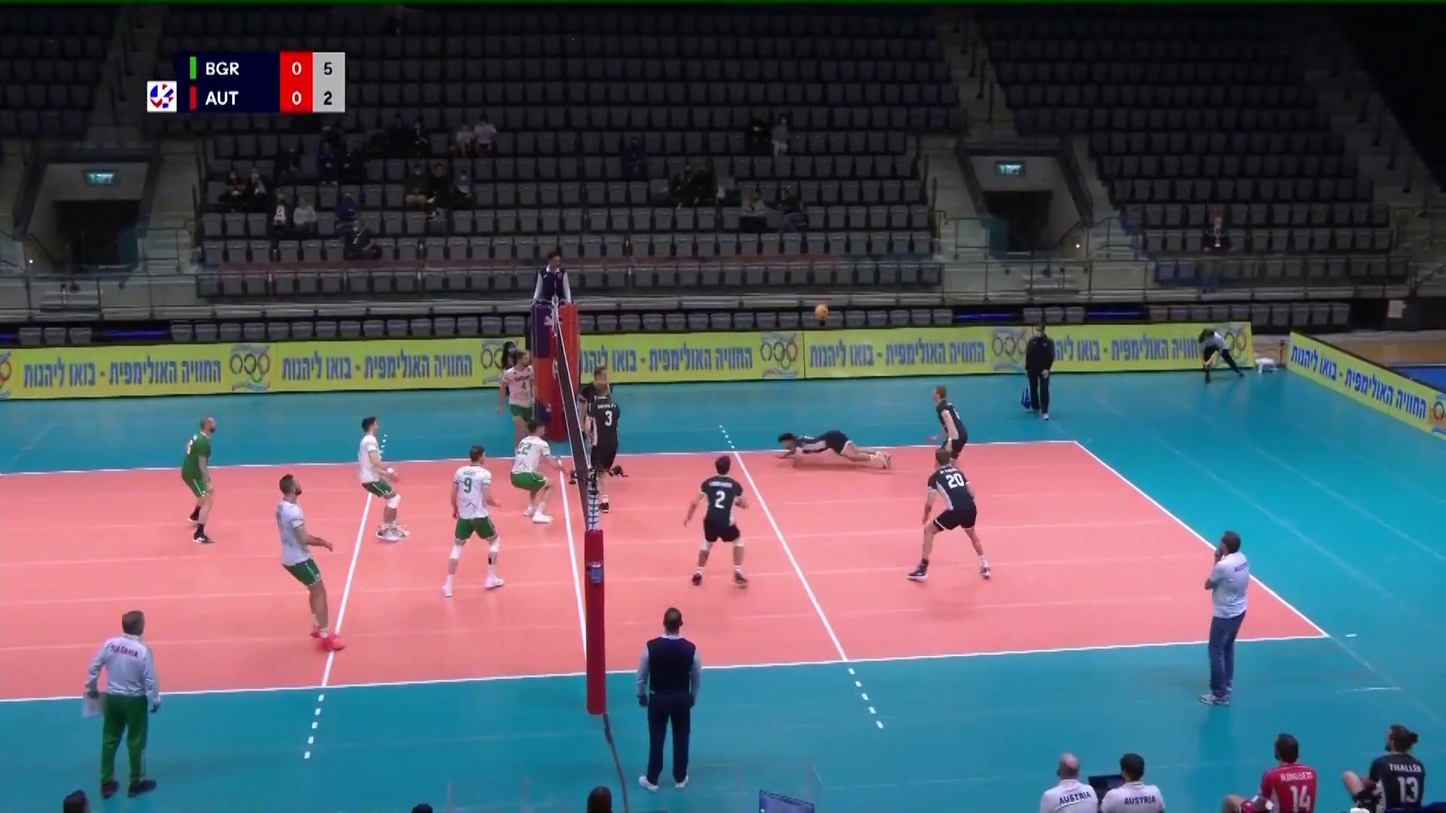ball: (814, 304, 829, 320)
